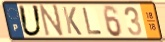3: (124, 6, 143, 37)
6: (102, 4, 123, 39)
K: (61, 6, 83, 37)
L: (81, 7, 104, 36)
N: (39, 4, 65, 39)
U: (17, 4, 44, 38)
